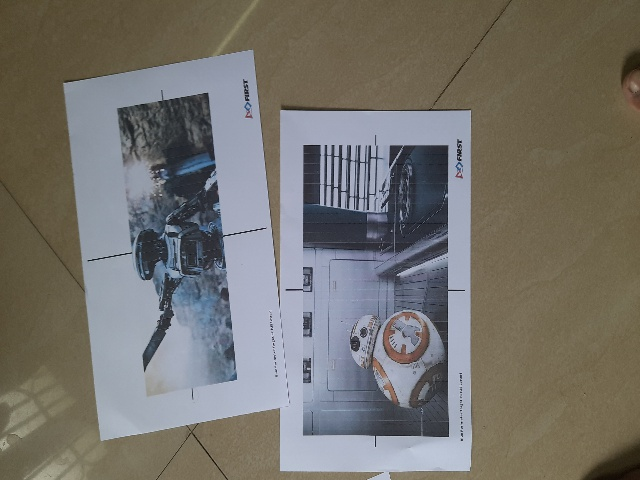bpt1: (296, 128, 458, 461)
bpt2: (55, 60, 268, 424)
